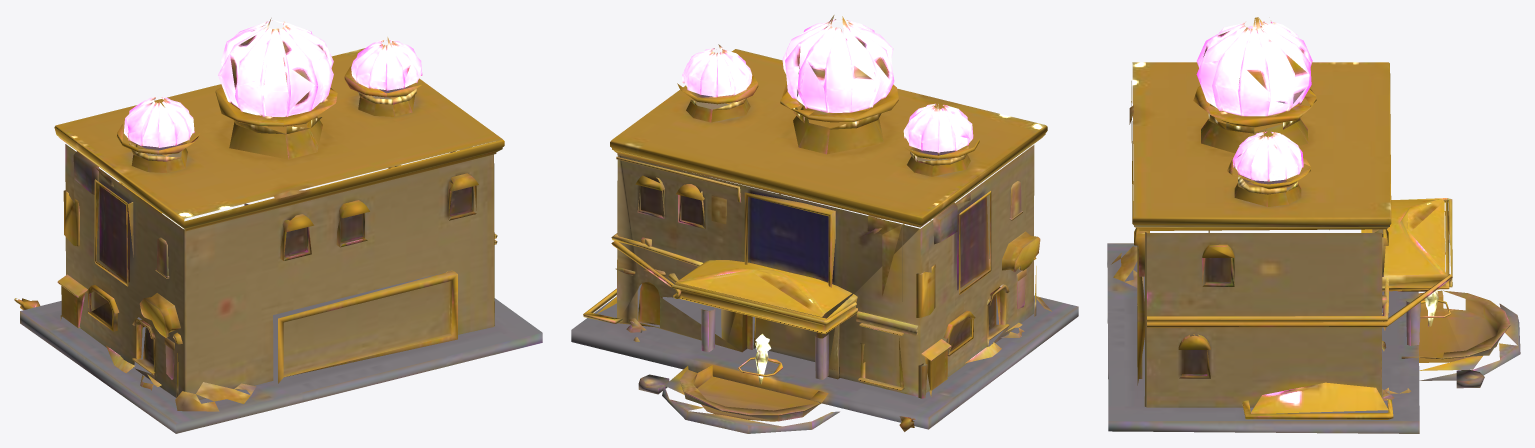
The model's file is border_casino.glb.
3 renders of one model, left to right at view 1: azimuth 30°, elevation 25°; view 2: azimuth 150°, elevation 25°; view 3: azimuth 270°, elevation 25°, orthographic. The views are drawn at different scales.
Visible parts, largest first — view 1: Body, Trim, Glow; view 2: Body, Trim, Glow; view 3: Body, Trim, Glow.
Part boxes in pixels (left/top/right/bottom): Body: left=20, top=84, right=542, bottom=433; Trim: left=14, top=48, right=504, bottom=403; Glow: left=124, top=18, right=422, bottom=225; Body: left=571, top=92, right=1078, bottom=433; Trim: left=583, top=49, right=1047, bottom=431; Glow: left=682, top=15, right=973, bottom=384; Body: left=1107, top=105, right=1520, bottom=433; Trim: left=1113, top=62, right=1482, bottom=419; Glow: left=1196, top=17, right=1438, bottom=326.
Bounding box in the file's own units: 29.78 × 25.72 × 28.69.
Materials: 3 (3 with a texture image).
